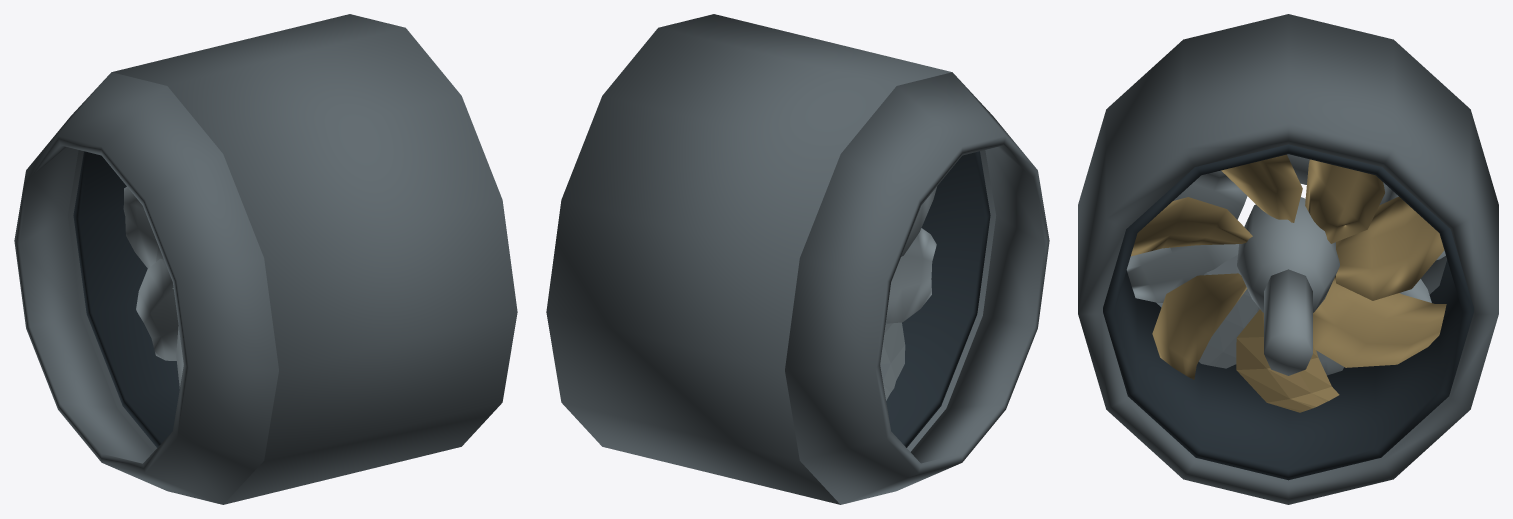
The model's file is FR_PJ_Suffren_LOD3.fbx.
3 views of the same model, side by side, from view 1: azimuth 30°, elevation 25°; view 2: azimuth 150°, elevation 25°; view 3: azimuth 270°, elevation 25° (orthographic). The views are drawn at different scales.
Parts seen in each view (by area): view 1: FR_PJ_Suffren_LOD3_Housing.001, FR_PJ_Suffren_LOD3_Nozzle.001, FR_PJ_Suffren_LOD3_Lining.001, FR_PJ_Suffren_LOD3_Stator_08.001, FR_PJ_Suffren_LOD3_Stator_00.001; view 2: FR_PJ_Suffren_LOD3_Housing.001, FR_PJ_Suffren_LOD3_Nozzle.001, FR_PJ_Suffren_LOD3_Lining.001, FR_PJ_Suffren_LOD3_Stator_05.001, FR_PJ_Suffren_LOD3_Stator_06.001; view 3: FR_PJ_Suffren_LOD3_Housing.001, FR_PJ_Suffren_LOD3_Lining.001, FR_PJ_Suffren_LOD3_Rotor_06.001, FR_PJ_Suffren_LOD3_Rotor_00.001, FR_PJ_Suffren_LOD3_Hub.001, FR_PJ_Suffren_LOD3_Rotor_04.001, FR_PJ_Suffren_LOD3_Rotor_01.001, FR_PJ_Suffren_LOD3_Shaft.001, FR_PJ_Suffren_LOD3_Rotor_05.001, FR_PJ_Suffren_LOD3_Rotor_03.001, FR_PJ_Suffren_LOD3_Stator_05.001, FR_PJ_Suffren_LOD3_Rotor_02.001 (+3 smaller).
Part boxes in pixels (x1,y1,x2,y2): FR_PJ_Suffren_LOD3_Housing.001: [67, 14, 517, 504]; FR_PJ_Suffren_LOD3_Nozzle.001: [14, 72, 278, 504]; FR_PJ_Suffren_LOD3_Lining.001: [73, 151, 179, 447]; FR_PJ_Suffren_LOD3_Stator_08.001: [136, 258, 178, 360]; FR_PJ_Suffren_LOD3_Stator_00.001: [123, 187, 173, 288]; FR_PJ_Suffren_LOD3_Housing.001: [546, 14, 996, 504]; FR_PJ_Suffren_LOD3_Nozzle.001: [785, 72, 1049, 504]; FR_PJ_Suffren_LOD3_Lining.001: [886, 151, 990, 447]; FR_PJ_Suffren_LOD3_Stator_05.001: [886, 228, 936, 323]; FR_PJ_Suffren_LOD3_Stator_06.001: [880, 291, 905, 400]; FR_PJ_Suffren_LOD3_Housing.001: [1078, 14, 1498, 504]; FR_PJ_Suffren_LOD3_Lining.001: [1103, 144, 1473, 480]; FR_PJ_Suffren_LOD3_Rotor_06.001: [1313, 275, 1446, 367]; FR_PJ_Suffren_LOD3_Rotor_00.001: [1336, 196, 1444, 300]; FR_PJ_Suffren_LOD3_Hub.001: [1237, 197, 1339, 312]; FR_PJ_Suffren_LOD3_Rotor_04.001: [1152, 273, 1246, 379]; FR_PJ_Suffren_LOD3_Rotor_01.001: [1305, 159, 1384, 243]; FR_PJ_Suffren_LOD3_Shaft.001: [1264, 269, 1312, 375]; FR_PJ_Suffren_LOD3_Rotor_05.001: [1236, 309, 1339, 412]; FR_PJ_Suffren_LOD3_Rotor_03.001: [1131, 197, 1252, 256]; FR_PJ_Suffren_LOD3_Stator_05.001: [1126, 244, 1238, 302]; FR_PJ_Suffren_LOD3_Rotor_02.001: [1221, 154, 1302, 222].
Size of the model in its own units: 534 by 530 by 530.
